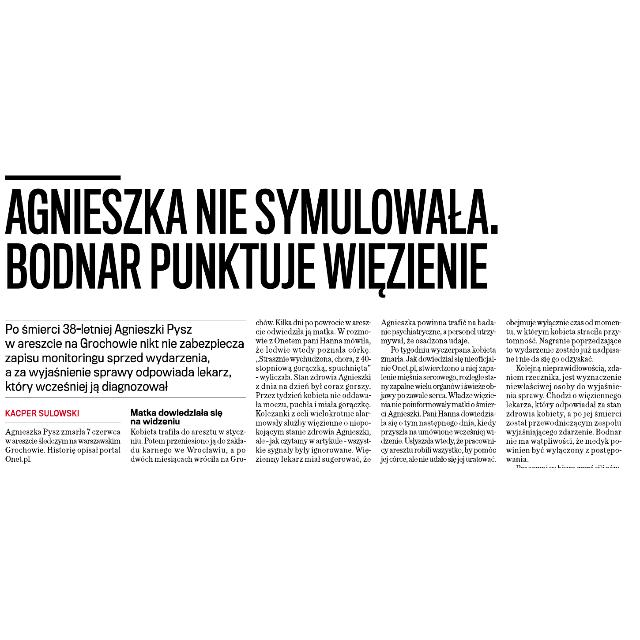author: (1, 407, 90, 421)
body: (378, 316, 498, 468), (254, 316, 374, 466), (504, 315, 624, 465), (127, 407, 250, 468), (2, 425, 124, 465)
lead: (3, 320, 247, 396)
title: (3, 182, 511, 302)
